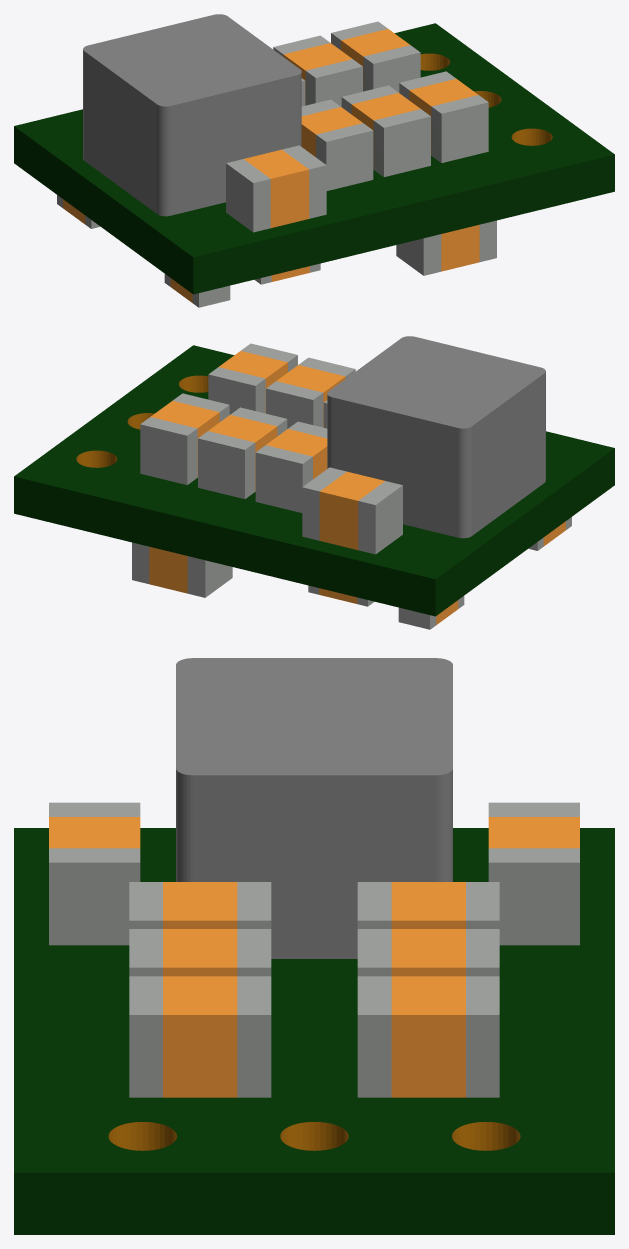
File: pololu-s13v20f5.glb
The picture shows the model from 3 angles, top to bottom: view 1: azimuth 30°, elevation 25°; view 2: azimuth 150°, elevation 25°; view 3: azimuth 270°, elevation 25°; orthographic projection. The views are drawn at different scales.
Visible parts, largest first — view 1: pololu-s13v20f5; view 2: pololu-s13v20f5; view 3: pololu-s13v20f5.
Boxes of the visible parts, <box> form: pololu-s13v20f5: <box>14,14,614,307</box>; pololu-s13v20f5: <box>14,336,614,629</box>; pololu-s13v20f5: <box>14,658,614,1234</box>.
Bounding box in the file's own units: 12.06 × 5.37 × 8.89.
